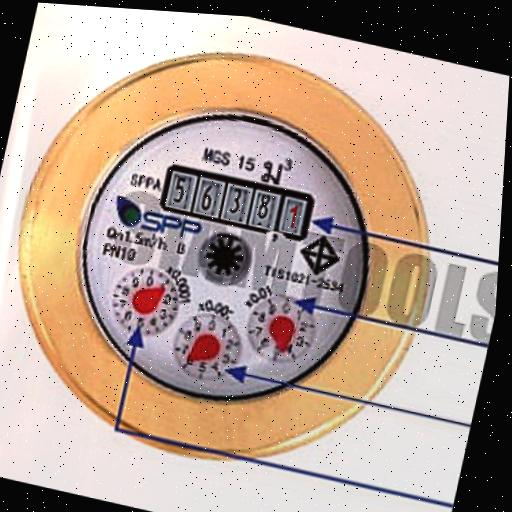1: (282, 201, 304, 234)
3: (223, 186, 247, 222)
5: (167, 175, 191, 210)
6: (196, 180, 218, 217)
8: (253, 194, 275, 229)
border_water_meter_number: (156, 161, 318, 244)
